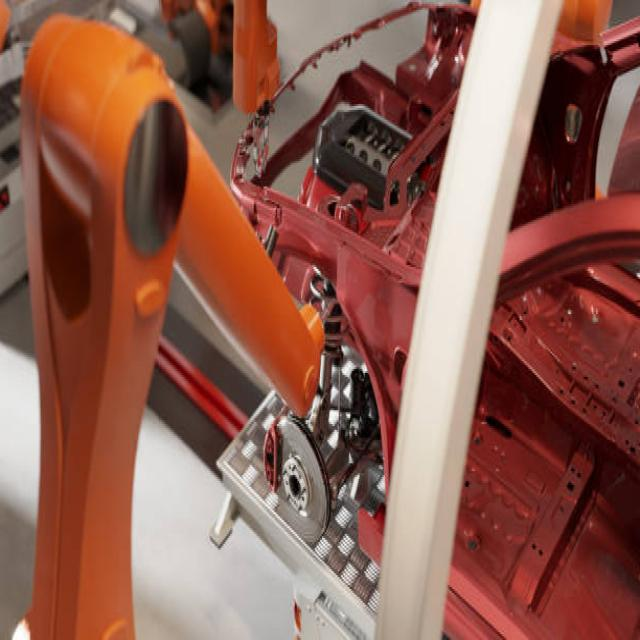Robotic-arm: (1, 5, 328, 640)
